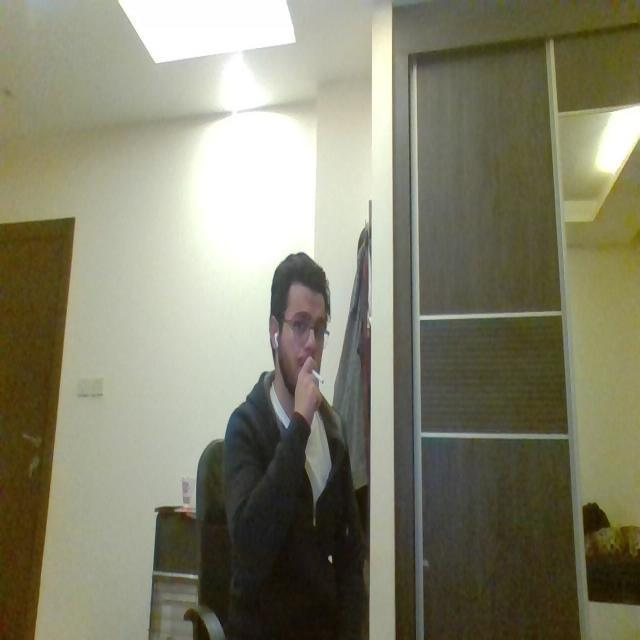smoking: (299, 363, 330, 392)
